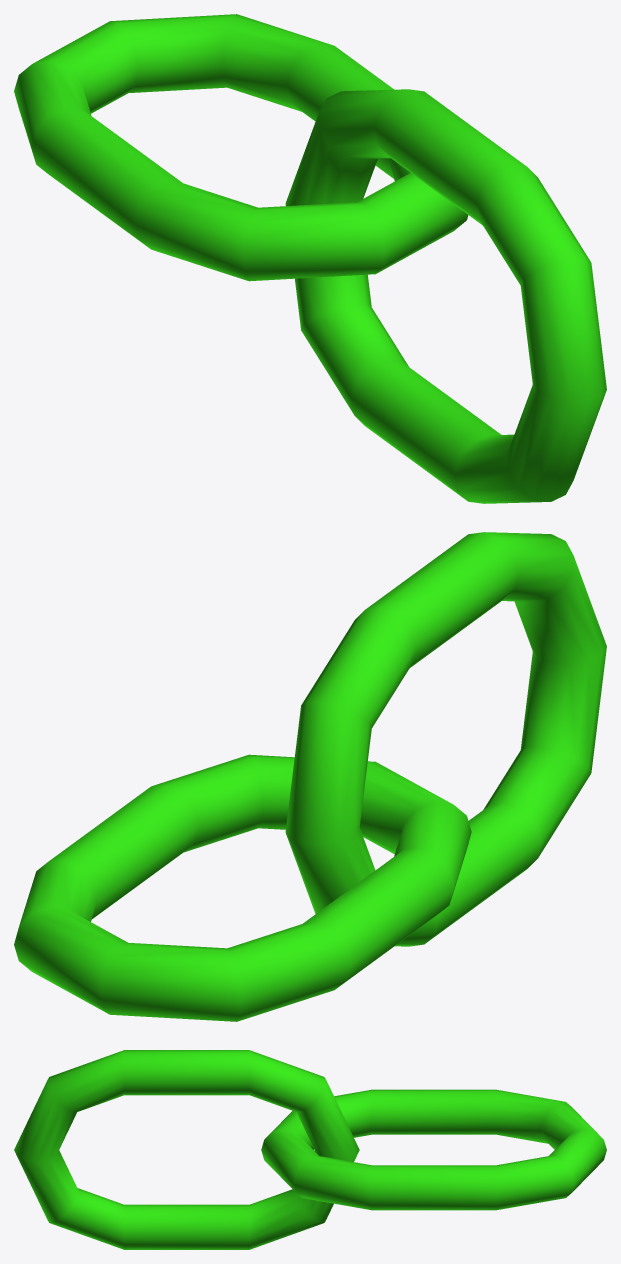
The model's file is Chain.fbx.
3 renders of one model, top to bottom at view 1: azimuth 30°, elevation 25°; view 2: azimuth 150°, elevation 25°; view 3: azimuth 270°, elevation 25°, orthographic. The views are drawn at different scales.
Visible parts, largest first — view 1: Torus.010; view 2: Torus.010; view 3: Torus.010.
Boxes of the visible parts, left/top/right/bottom form: Torus.010: left=14, top=14, right=606, bottom=503; Torus.010: left=14, top=532, right=606, bottom=1021; Torus.010: left=14, top=1050, right=606, bottom=1249.
Bounding box in the file's own units: 9.86 × 9.83 × 26.15.
